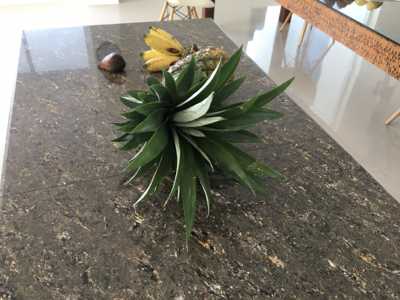banana: (142, 26, 188, 69)
pineapple: (111, 46, 298, 245)
snake fruit: (97, 52, 127, 71)
